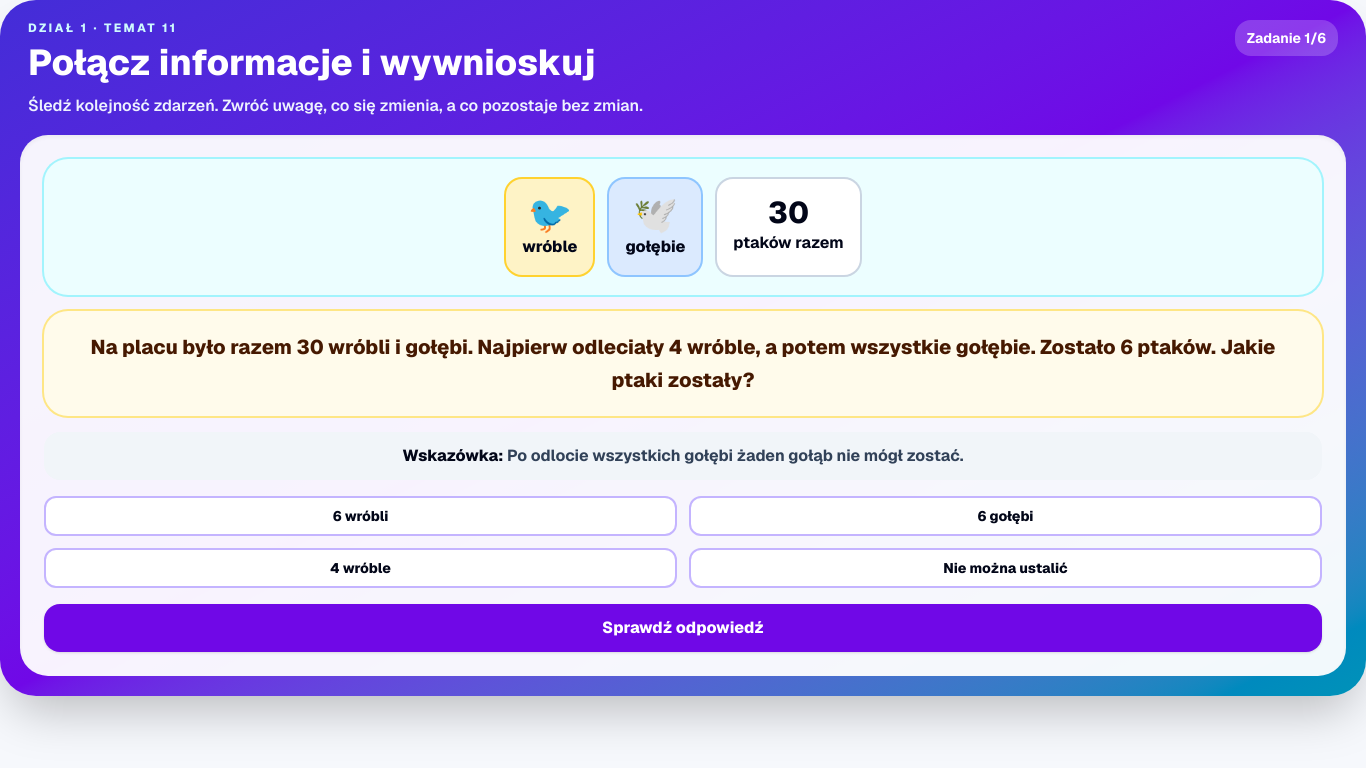
Test: Grade4ReadingInformationTwoLessonLab › wnioskuje, jakie ptaki zostały
Click the button "6 wróbli" at (360, 516), box [44, 496, 677, 536]
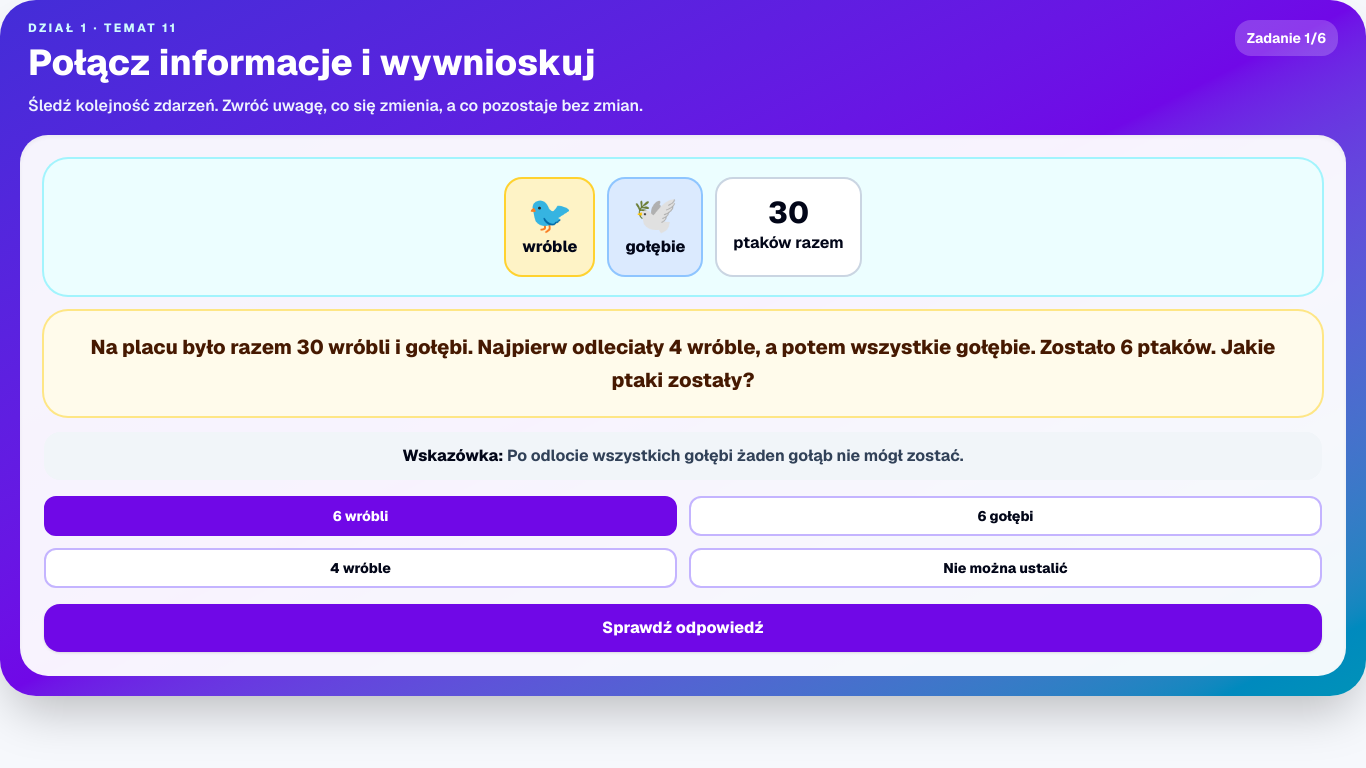
Click the button "Sprawdź odpowiedź" at (683, 628), box [44, 604, 1322, 652]
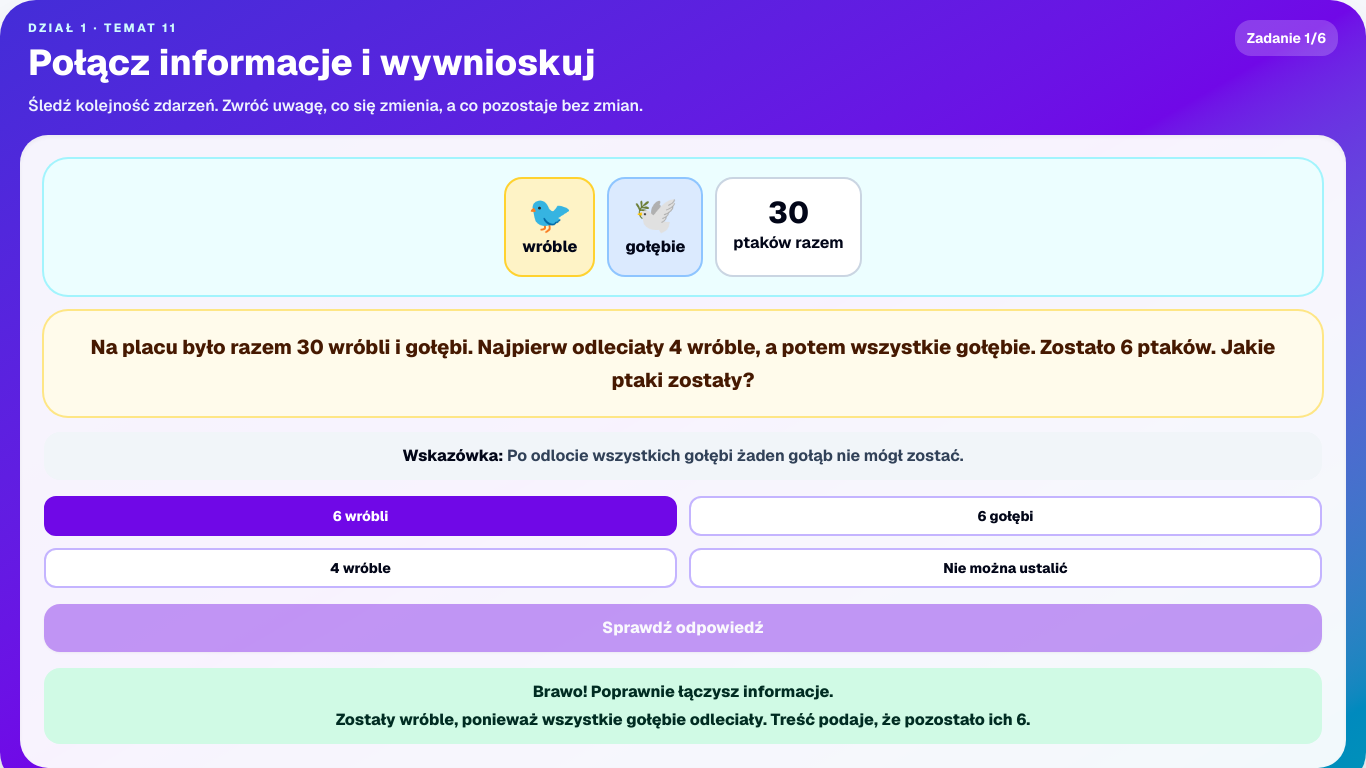
expect the message shows "wszystkie gołębie odleciały": met, box [336, 709, 1030, 730]
